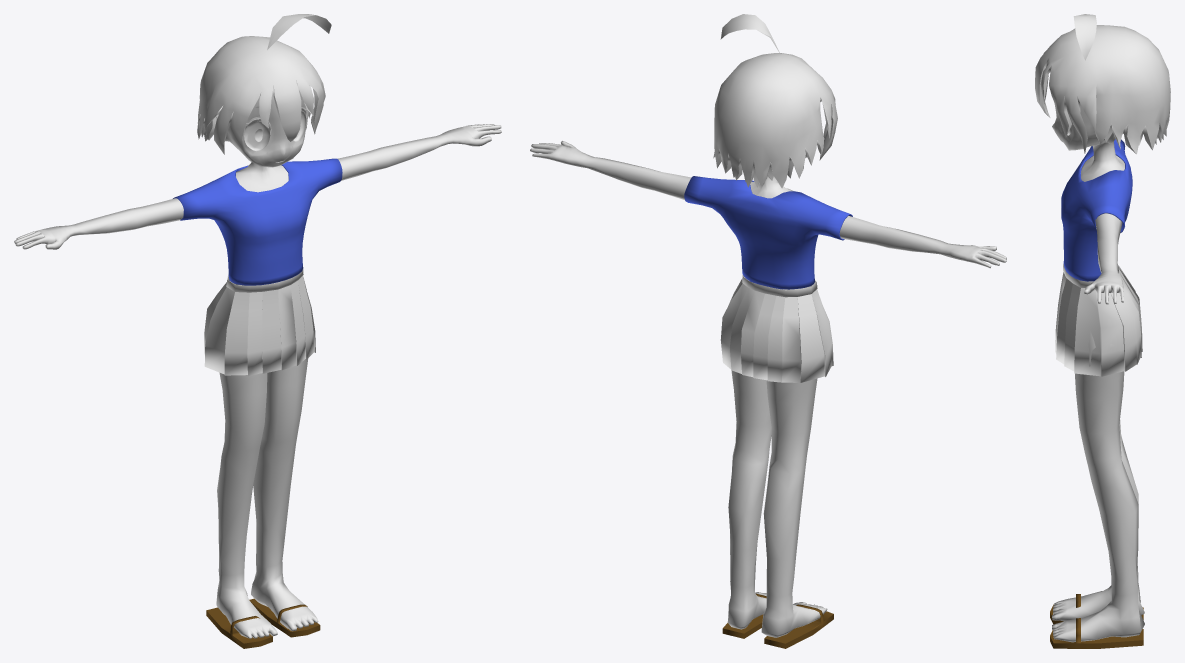
File: fusee1.fbx
3 renders of one model, left to right at view 1: azimuth 30°, elevation 25°; view 2: azimuth 150°, elevation 25°; view 3: azimuth 270°, elevation 25°, orthographic. The views are drawn at different scales.
Visible parts, largest first — view 1: head, 内衣, hair_front, 裙, 木履, hair_top; view 2: head, hair_front, 内衣, 裙, 木履, hair_top; view 3: head, hair_front, 裙, 内衣, 木履, hair_top.
Part boxes in pixels (x1=…): head: x1=14, y1=90, x2=501, y2=638; 内衣: x1=173, y1=158, x2=342, y2=285; hair_front: x1=197, y1=36, x2=325, y2=154; 裙: x1=204, y1=269, x2=315, y2=376; 木履: x1=206, y1=598, x2=320, y2=648; hair_top: x1=267, y1=14, x2=331, y2=49; head: x1=530, y1=141, x2=1006, y2=637; hair_front: x1=713, y1=53, x2=837, y2=188; 内衣: x1=684, y1=176, x2=852, y2=289; 裙: x1=720, y1=275, x2=833, y2=382; 木履: x1=722, y1=593, x2=833, y2=648; hair_top: x1=720, y1=14, x2=780, y2=54; head: x1=1052, y1=87, x2=1144, y2=642; hair_front: x1=1035, y1=25, x2=1170, y2=154; 裙: x1=1055, y1=263, x2=1142, y2=376; 内衣: x1=1061, y1=139, x2=1132, y2=281; 木履: x1=1050, y1=594, x2=1143, y2=648; hair_top: x1=1073, y1=14, x2=1096, y2=60.
Bounding box in the file's own units: 140 × 168 × 32.81.
